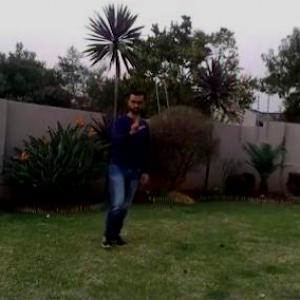land_hand: (124, 111, 149, 138)
